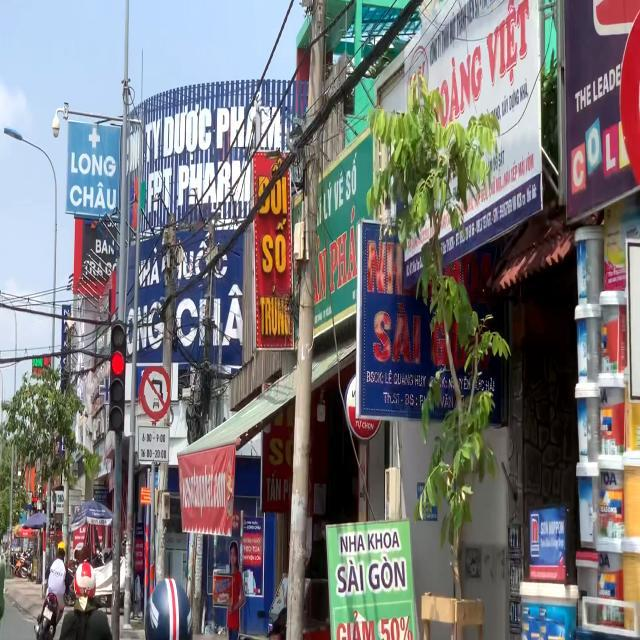P-103c: (138, 368, 170, 424)
